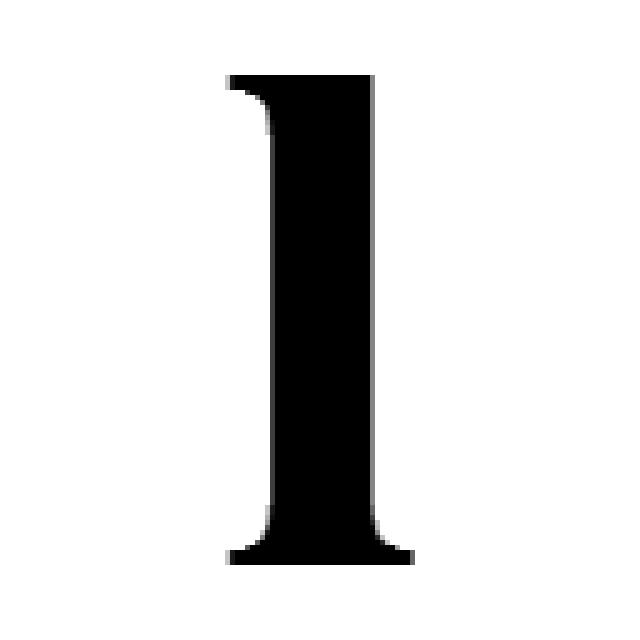L: (220, 70, 428, 570)
